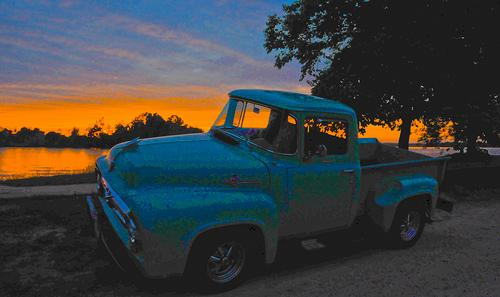truck: (85, 88, 455, 295)
